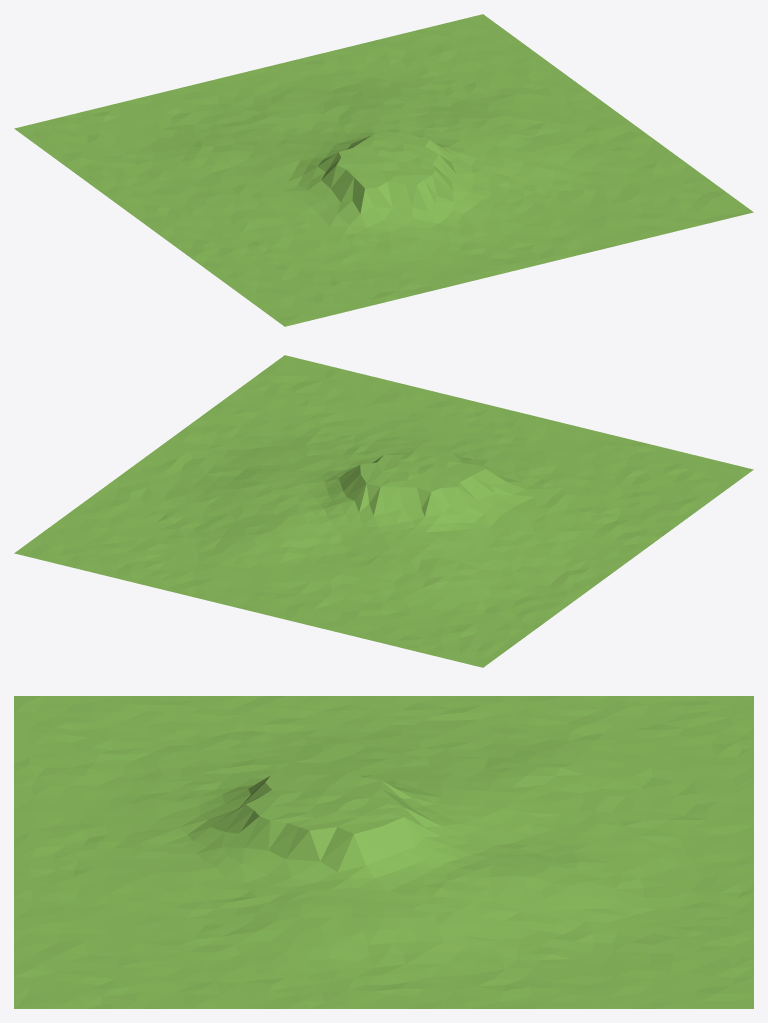
The model's file is MT_Terrain_L_c_14_LOD.fbx.
The picture shows the model from 3 angles, top to bottom: view 1: azimuth 30°, elevation 25°; view 2: azimuth 150°, elevation 25°; view 3: azimuth 270°, elevation 25°; orthographic projection. The views are drawn at different scales.
Parts seen in each view (by area): view 1: MT_Terrain_L_c_14_LOD0; view 2: MT_Terrain_L_c_14_LOD0; view 3: MT_Terrain_L_c_14_LOD0.
Boxes of the visible parts, <box> form: MT_Terrain_L_c_14_LOD0: <box>14,14,753,326</box>; MT_Terrain_L_c_14_LOD0: <box>14,355,753,667</box>; MT_Terrain_L_c_14_LOD0: <box>14,696,753,1008</box>.
Size of what is drawn, in the model's own units: 10000 by 659 by 10000.
